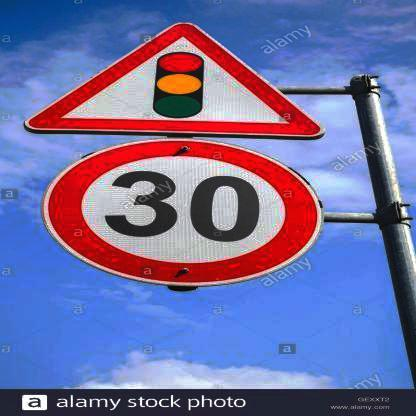Speed Limit -30-: (37, 139, 329, 287)
